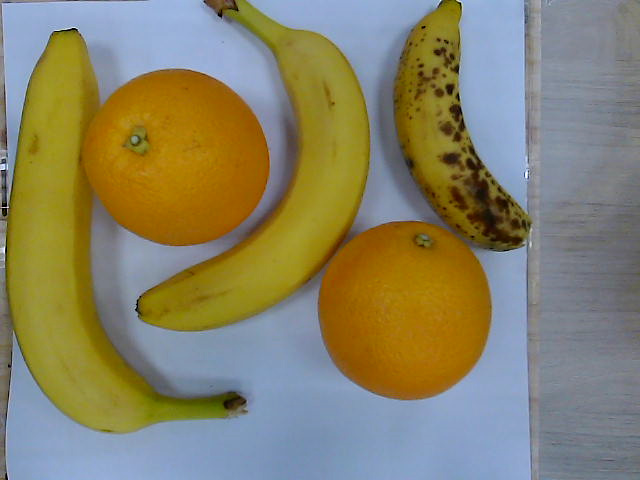fresh_banana: (140, 1, 369, 333), (8, 30, 165, 434)
fresh_orange: (80, 67, 272, 244), (317, 222, 494, 403)
rotten_banana: (394, 1, 535, 252)
